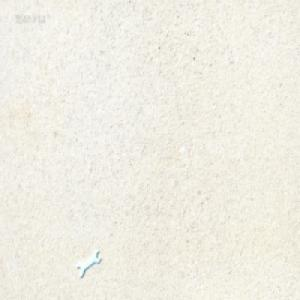Wrench: (76, 249, 101, 278)
